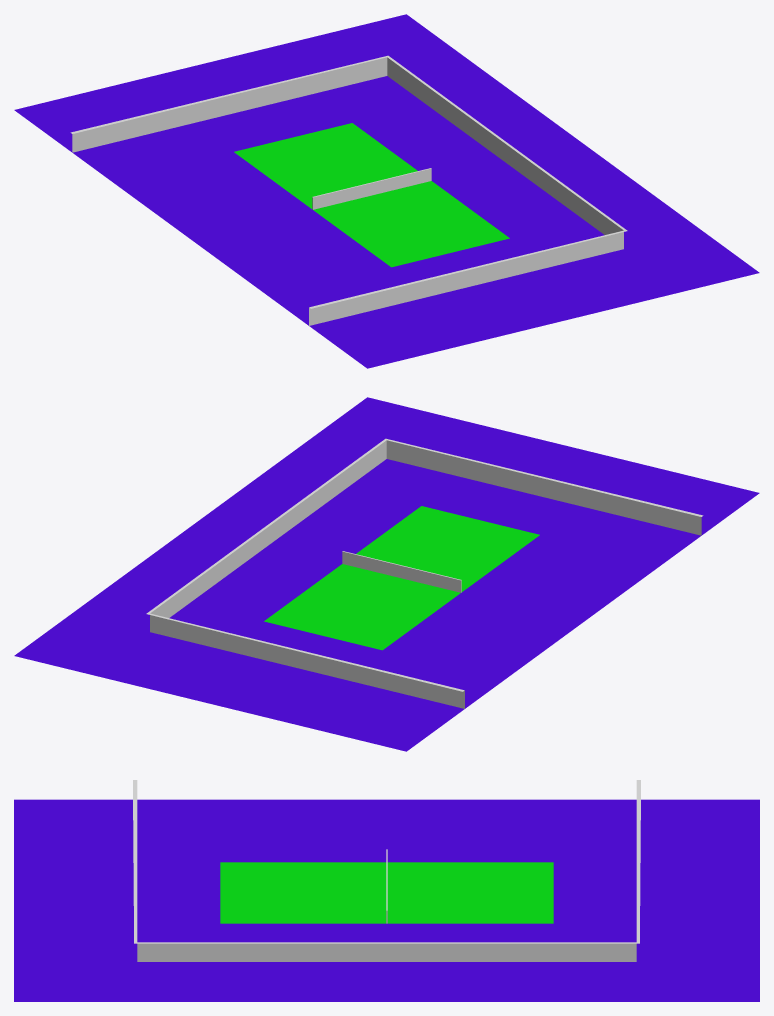
Rendered from Map.fbx.
The picture shows the model from 3 angles, top to bottom: view 1: azimuth 30°, elevation 25°; view 2: azimuth 150°, elevation 25°; view 3: azimuth 270°, elevation 25°; orthographic projection. The views are drawn at different scales.
Parts seen in each view (by area): view 1: Plane.004, Plane.005, Plane.001, Plane.002; view 2: Plane.004, Plane.005, Plane.001, Plane.002; view 3: Plane.004, Plane.001, Plane.005.
Boxes of the visible parts, x1,y1,x2,y2 form: Plane.004: (14, 14, 759, 368); Plane.005: (70, 55, 627, 325); Plane.001: (234, 123, 509, 267); Plane.002: (312, 168, 431, 209); Plane.004: (14, 397, 759, 751); Plane.005: (146, 438, 703, 708); Plane.001: (264, 506, 539, 650); Plane.002: (342, 551, 461, 592); Plane.004: (14, 799, 759, 1001); Plane.001: (220, 862, 553, 923); Plane.005: (133, 780, 640, 961).
Bounding box in the file's own units: 3303 × 150 × 5151.
